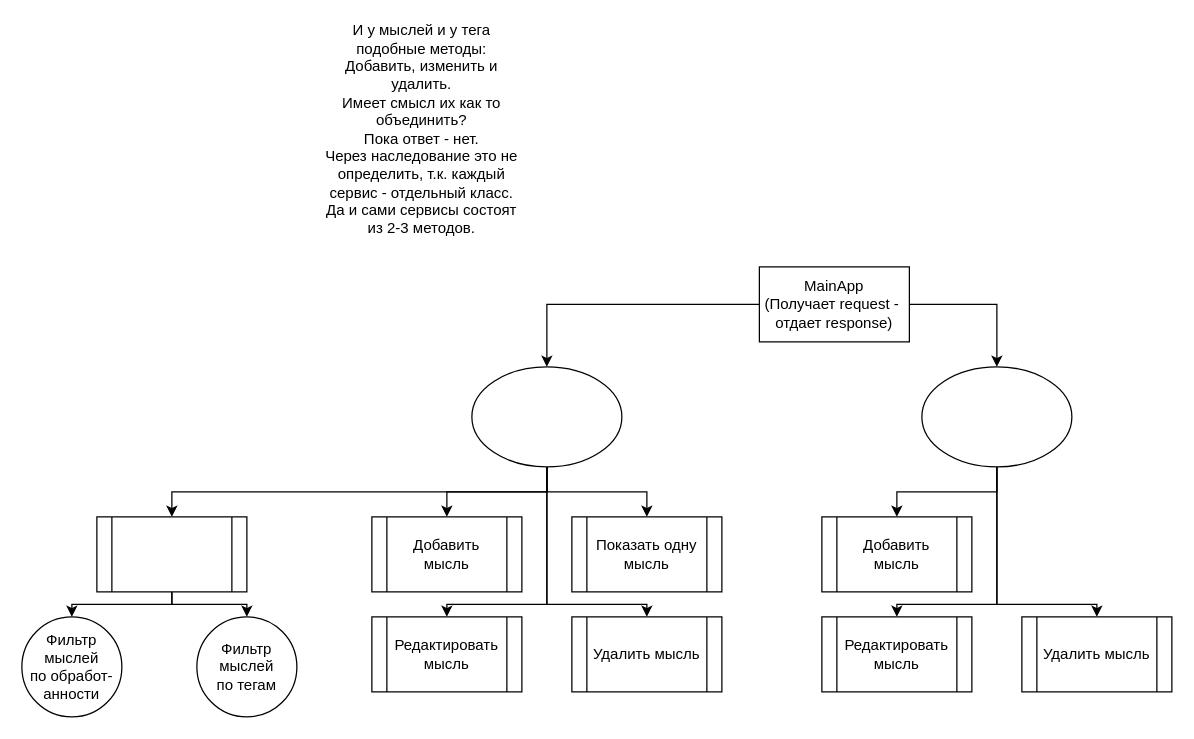
The diagram is 1194 pixels wide and 739 high, and some of its shapes have lost their labels. Here are the shapes that lost their labels. From the top down, the centre of each, then its label:
At point 546,416: "Контроллер для запросов про Мысль".
At point 996,416: "Контроллер для запросов про Теги".
At point 171,554: "Показать список мыслей".
